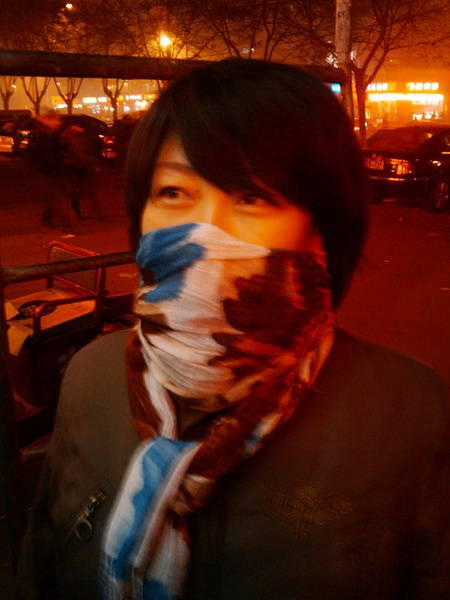face_mask: (143, 113, 306, 373)
